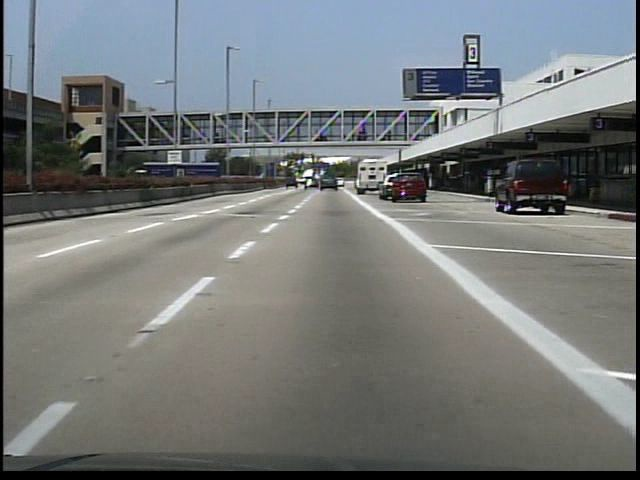person: (415, 171, 431, 201)
